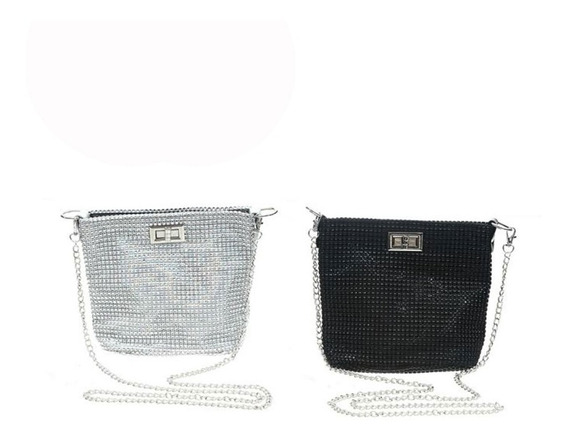cartera: (60, 202, 279, 413), (304, 207, 519, 419)
